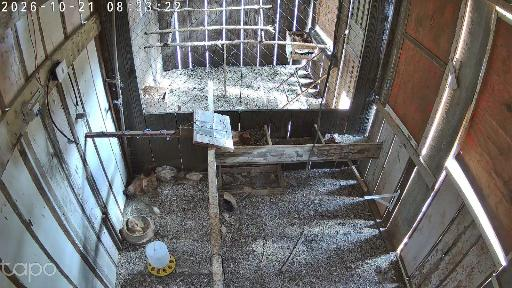frango: (156, 165, 179, 180)
galinha: (123, 162, 154, 198), (232, 128, 251, 145), (292, 30, 313, 42)
pintinho: (127, 216, 142, 234), (142, 179, 155, 199), (223, 191, 237, 208), (186, 171, 204, 181), (146, 203, 161, 215), (222, 199, 234, 213)
